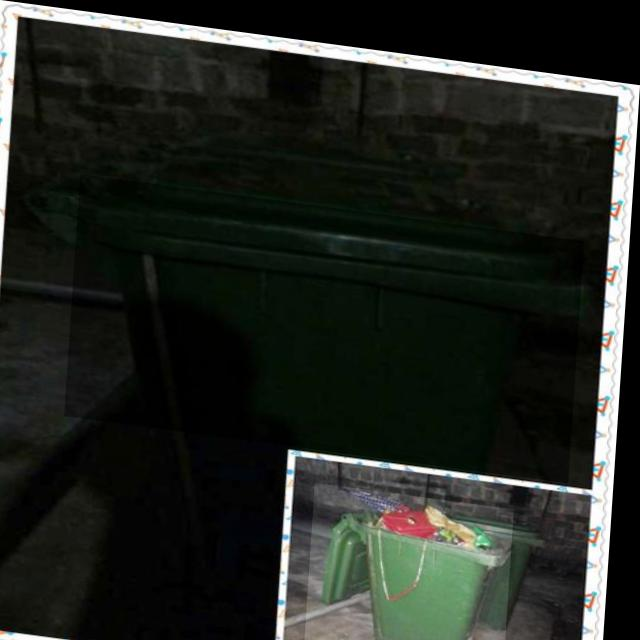garbage_bin: (70, 172, 587, 467)
overflow: (312, 473, 520, 640)
